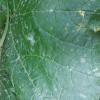Squash Powdery mildew leaf: (0, 0, 99, 98)
